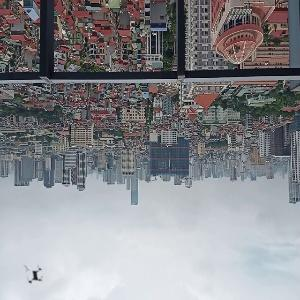drone: (14, 253, 59, 298)
